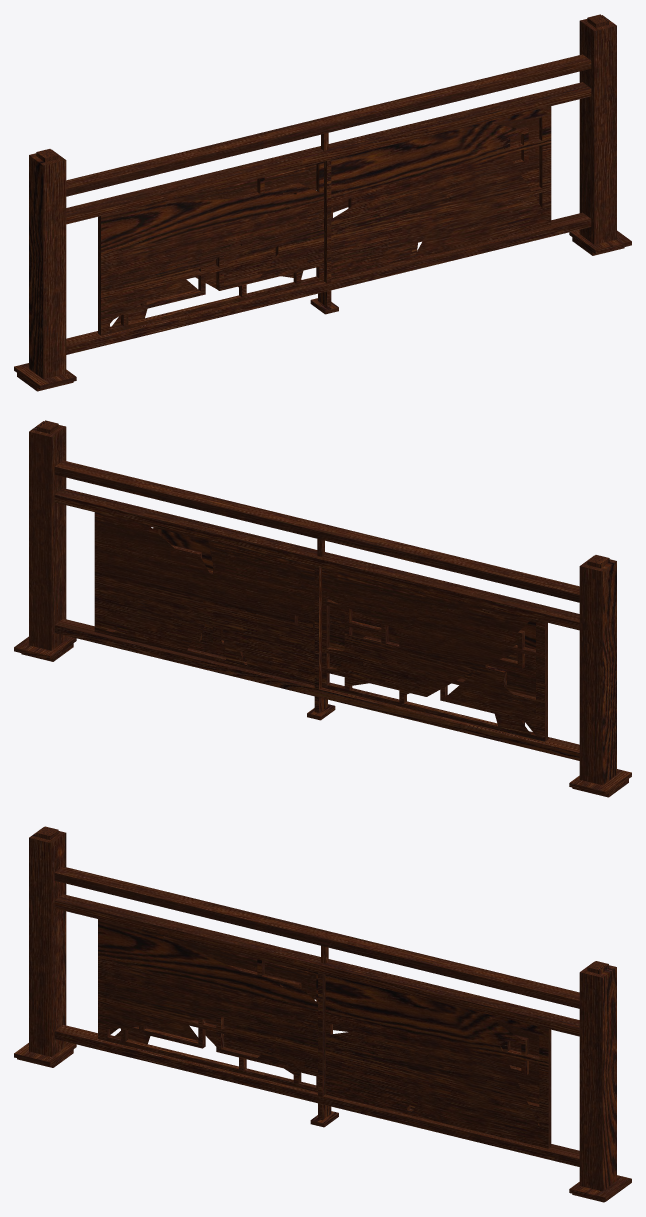
File: fence_end.fbx
3 renders of one model, top to bottom at view 1: azimuth 30°, elevation 25°; view 2: azimuth 150°, elevation 25°; view 3: azimuth 330°, elevation 25°, orthographic.
Visible parts, largest first — view 1: fence_end; view 2: fence_end; view 3: fence_end.
Boxes of the visible parts, bbox=[...] form: fence_end: bbox=[14, 14, 631, 391]; fence_end: bbox=[14, 420, 631, 797]; fence_end: bbox=[14, 826, 631, 1202].
Bounding box in the file's own units: 389 × 142 × 29.83.
